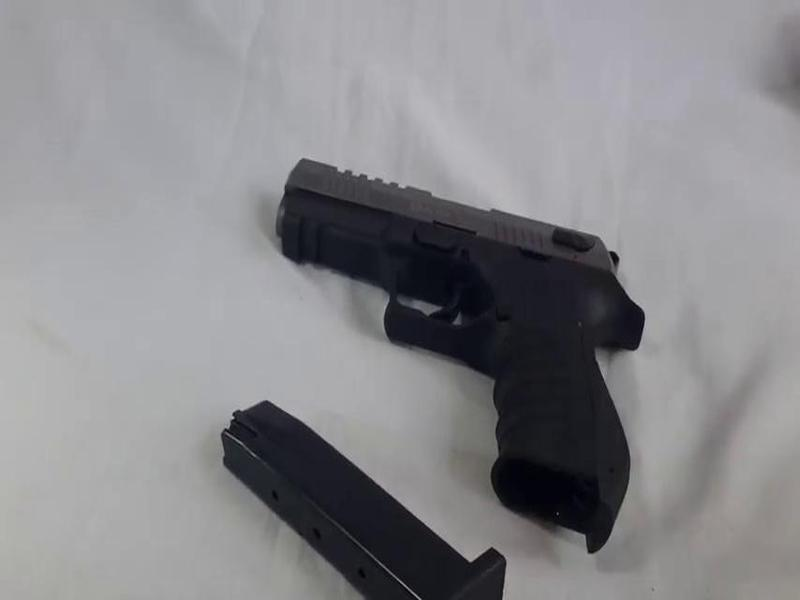Pistola: (260, 137, 653, 537)
